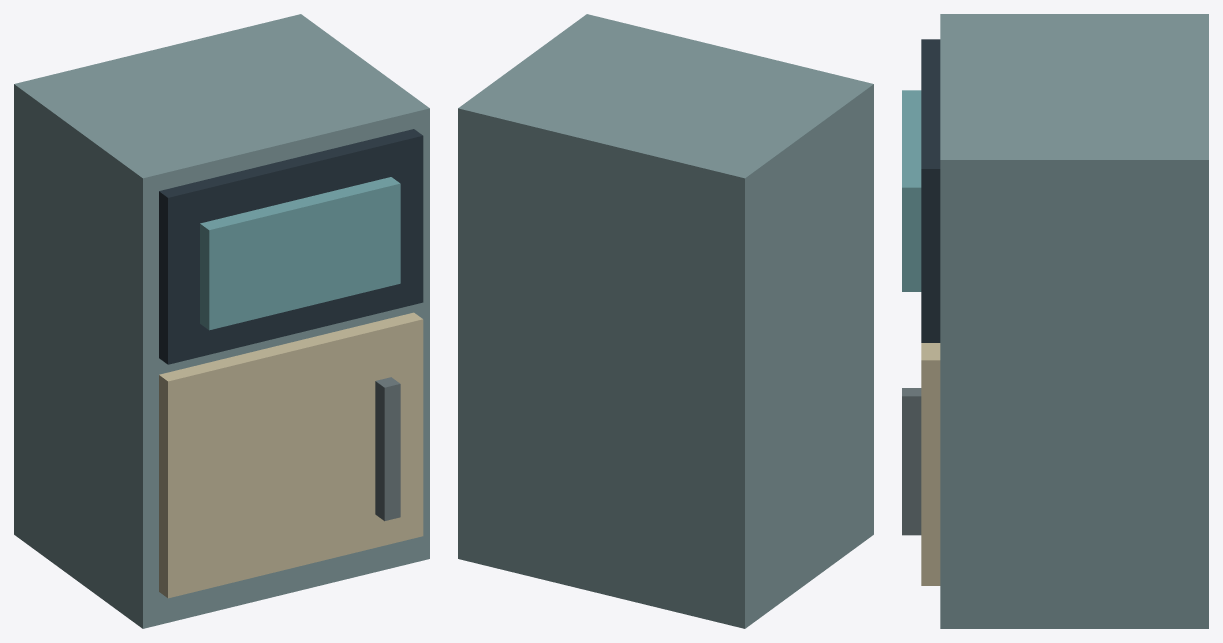
The model's file is iot-15.glb.
3 renders of one model, left to right at view 1: azimuth 30°, elevation 25°; view 2: azimuth 150°, elevation 25°; view 3: azimuth 270°, elevation 25°, orthographic. The views are drawn at different scales.
Parts seen in each view (by area): view 1: Smart fridge; view 2: Smart fridge; view 3: Smart fridge.
Part boxes in pixels (box(x1,y1,x2,y2)): Smart fridge: box(14, 14, 429, 628); Smart fridge: box(458, 14, 873, 628); Smart fridge: box(902, 14, 1208, 628).
Size of the model in its own units: 1.44 by 2.16 by 1.28.
